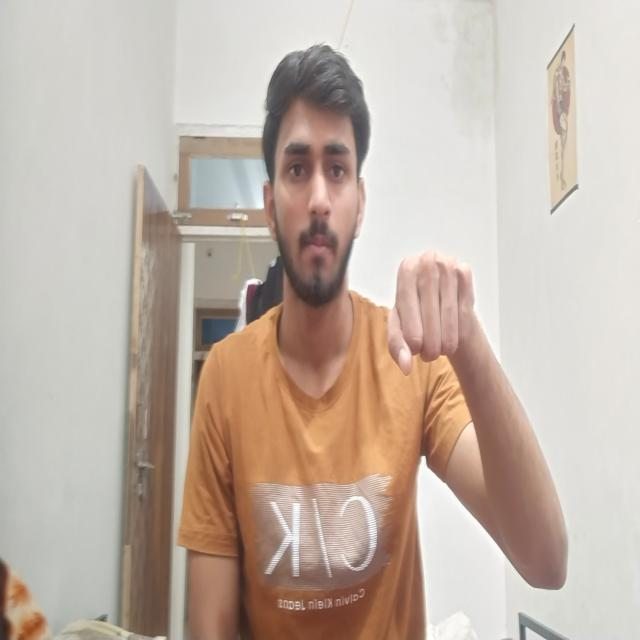yes: (377, 216, 496, 437)
